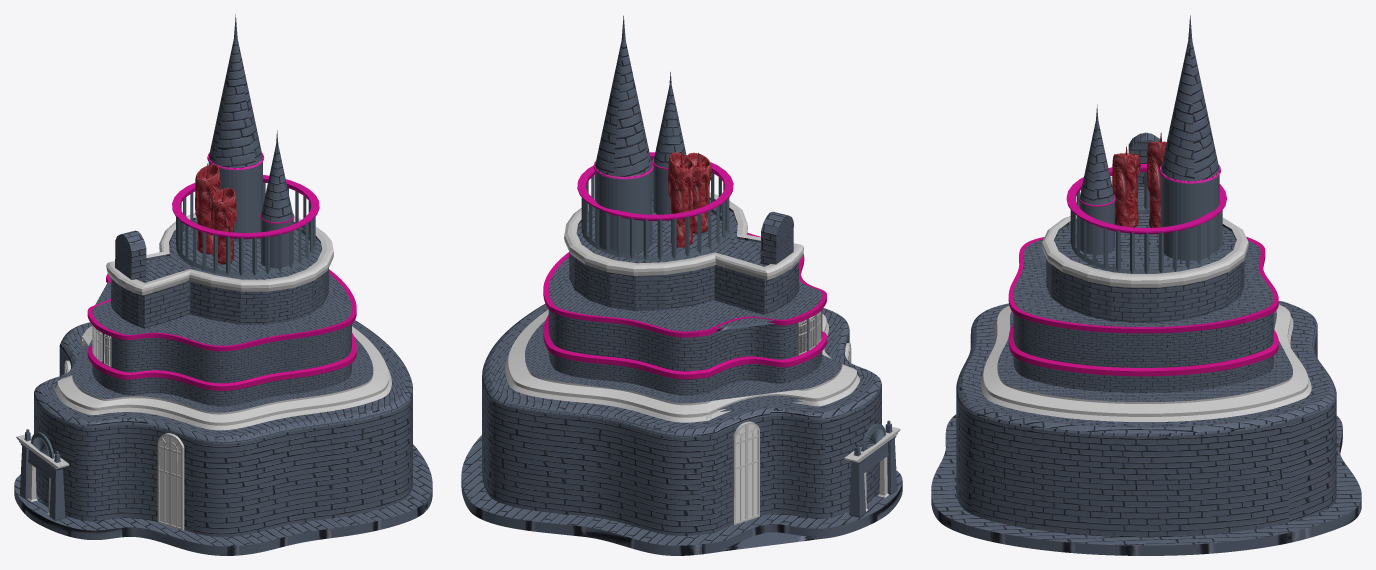
The model's file is Castle Revamp fin.fbx.
3 views of the same model, side by side, from view 1: azimuth 30°, elevation 25°; view 2: azimuth 150°, elevation 25°; view 3: azimuth 270°, elevation 25° (orthographic). The views are drawn at different scales.
Parts seen in each view (by area): view 1: NurbsPath, Plane, Cylinder, Circle, Cylinder.001, NurbsPath.005, Cylinder.002, NurbsPath.007, Cylinder.003, NurbsPath.001, Cube, Cube.001; view 2: NurbsPath, Plane, Cylinder, Circle, Cylinder.001, Cylinder.002, NurbsPath.008, NurbsPath.006, NurbsPath.001, Cylinder.003, Cube.001, Cube; view 3: NurbsPath, Plane, Cylinder, Circle, Cylinder.001, Cylinder.003, Cylinder.002, NurbsPath.001.
Boxes of the visible parts, x1,y1,x2,y2 form: NurbsPath: (14, 269, 432, 555); Plane: (106, 213, 333, 328); Cylinder: (207, 14, 264, 241); Circle: (172, 175, 319, 277); Cylinder.001: (260, 130, 294, 268); NurbsPath.005: (157, 433, 184, 530); Cylinder.002: (195, 163, 220, 254); NurbsPath.007: (160, 435, 180, 527); Cylinder.003: (211, 188, 236, 264); NurbsPath.001: (115, 230, 146, 280); Cube: (49, 450, 65, 520); Cube.001: (20, 429, 31, 499); NurbsPath: (461, 233, 902, 555); Plane: (564, 192, 803, 314); Cylinder: (593, 15, 653, 253); Circle: (577, 152, 733, 262); Cylinder.001: (652, 72, 686, 214); Cylinder.002: (668, 151, 695, 247); NurbsPath.008: (735, 424, 757, 521); NurbsPath.006: (732, 421, 759, 524); NurbsPath.001: (760, 211, 793, 265); Cylinder.003: (687, 152, 712, 233); Cube.001: (849, 443, 865, 517); Cube: (885, 420, 897, 494); NurbsPath: (931, 237, 1361, 555); Plane: (1041, 176, 1248, 322); Cylinder: (1159, 15, 1220, 260); Circle: (1066, 164, 1226, 273); Cylinder.001: (1078, 104, 1115, 254); Cylinder.003: (1112, 146, 1140, 227); Cylinder.002: (1147, 132, 1166, 227); NurbsPath.001: (1128, 132, 1160, 185).
Bounding box in the file's own units: 142 × 165 × 136.
